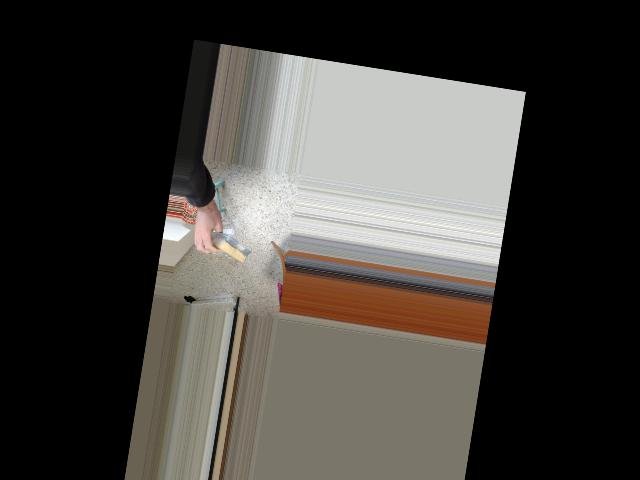cheese: (198, 224, 256, 267)
